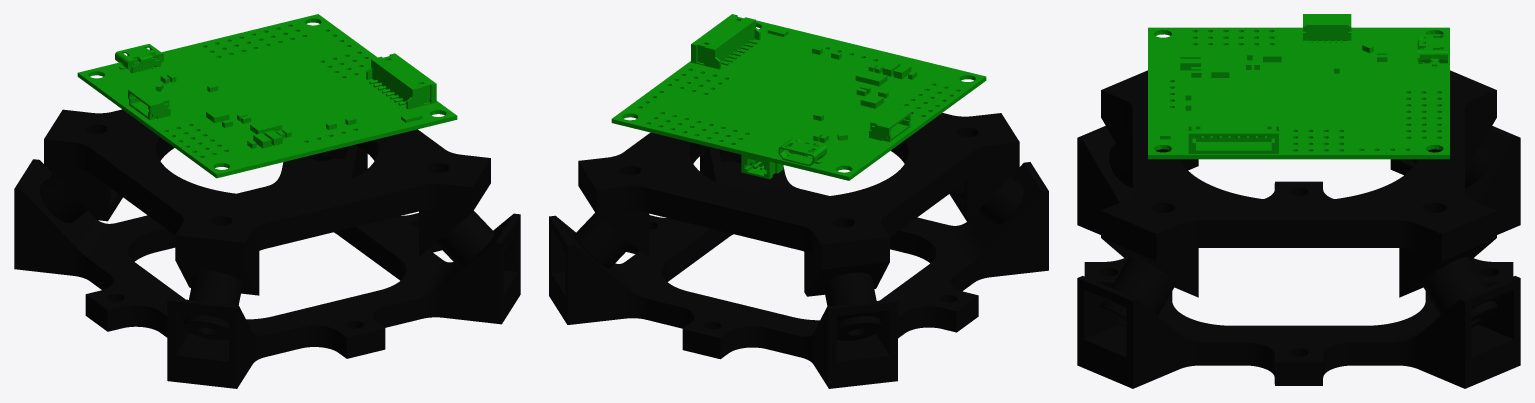
Rendered from spinal.dae.
3 views of the same model, side by side, from view 1: azimuth 30°, elevation 25°; view 2: azimuth 150°, elevation 25°; view 3: azimuth 270°, elevation 25° (orthographic). The views are drawn at different scales.
Visible parts, largest first — view 1: spinal_link_black, spinal_link_green; view 2: spinal_link_black, spinal_link_green; view 3: spinal_link_black, spinal_link_green.
Part boxes in pixels (x1=…): spinal_link_black: x1=14, y1=109, x2=520, y2=388; spinal_link_green: x1=77, y1=14, x2=457, y2=178; spinal_link_black: x1=549, y1=113, x2=1048, y2=388; spinal_link_green: x1=611, y1=14, x2=986, y2=180; spinal_link_black: x1=1077, y1=70, x2=1520, y2=388; spinal_link_green: x1=1148, y1=14, x2=1449, y2=159.
Bounding box in the file's own units: 0.0734 × 0.0734 × 0.041.
